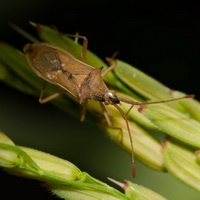insect: (24, 23, 199, 190)
